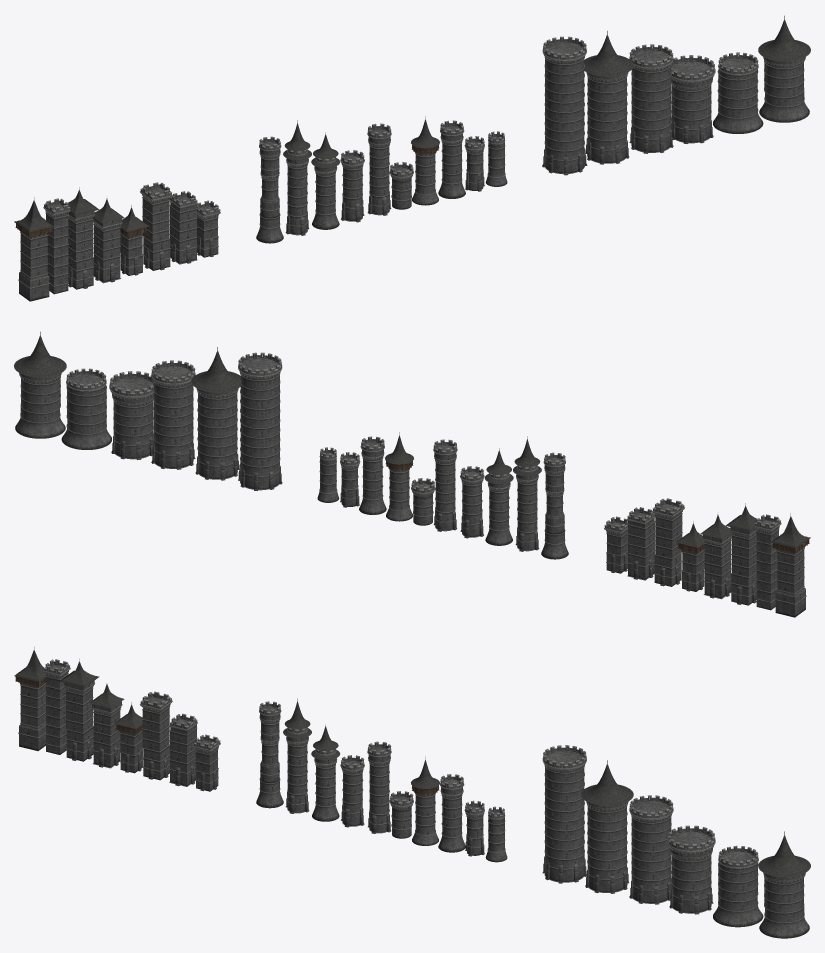
The model's file is RenderCrate-Castle_Towers.fbx.
3 views of the same model, one above another, from view 1: azimuth 30°, elevation 25°; view 2: azimuth 150°, elevation 25°; view 3: azimuth 330°, elevation 25° (orthographic).
Parts seen in each view (by area): view 1: Castle_Tower_Wide_F, Castle_Tower_Wide_E, Castle_Tower_Wide_D, Castle_Tower_Wide_A, Castle_Tower_Wide_C, Castle_Tower_Wide_B, Castle_Tower_Square_H, Castle_Tower_Square_C, Castle_Tower_Square_F, Castle_Tower_Round_I, Castle_Tower_Round_J, Castle_Tower_Square_E (+12 smaller); view 2: Castle_Tower_Wide_F, Castle_Tower_Wide_E, Castle_Tower_Wide_D, Castle_Tower_Wide_A, Castle_Tower_Wide_C, Castle_Tower_Wide_B, Castle_Tower_Square_H, Castle_Tower_Square_C, Castle_Tower_Square_F, Castle_Tower_Round_I, Castle_Tower_Round_J, Castle_Tower_Square_E (+12 smaller); view 3: Castle_Tower_Wide_F, Castle_Tower_Wide_E, Castle_Tower_Wide_D, Castle_Tower_Wide_A, Castle_Tower_Wide_C, Castle_Tower_Wide_B, Castle_Tower_Square_F, Castle_Tower_Square_C, Castle_Tower_Square_H, Castle_Tower_Round_I, Castle_Tower_Round_J, Castle_Tower_Square_E (+12 smaller).
Part boxes in pixels (box(x1,y1,x2,y2)): Castle_Tower_Wide_F: box(542, 36, 587, 175); Castle_Tower_Wide_E: box(584, 30, 633, 164); Castle_Tower_Wide_D: box(629, 44, 673, 153); Castle_Tower_Wide_A: box(758, 15, 810, 122); Castle_Tower_Wide_C: box(671, 55, 715, 143); Castle_Tower_Wide_B: box(713, 52, 763, 133); Castle_Tower_Square_H: box(14, 197, 53, 301); Castle_Tower_Square_C: box(140, 182, 172, 270); Castle_Tower_Square_F: box(67, 187, 99, 289); Castle_Tower_Round_I: box(283, 120, 311, 235); Castle_Tower_Round_J: box(256, 136, 283, 243); Castle_Tower_Square_E: box(93, 198, 124, 283); Castle_Tower_Wide_F: box(238, 352, 282, 490); Castle_Tower_Wide_E: box(191, 347, 240, 480); Castle_Tower_Wide_D: box(151, 360, 195, 469); Castle_Tower_Wide_A: box(14, 331, 66, 438); Castle_Tower_Wide_C: box(109, 371, 153, 459); Castle_Tower_Wide_B: box(61, 368, 111, 449); Castle_Tower_Square_H: box(771, 513, 810, 617); Castle_Tower_Square_C: box(652, 498, 684, 586); Castle_Tower_Square_F: box(725, 503, 757, 605); Castle_Tower_Round_I: box(513, 436, 541, 551); Castle_Tower_Round_J: box(541, 452, 568, 559); Castle_Tower_Square_E: box(700, 514, 731, 599); Castle_Tower_Wide_F: box(542, 745, 586, 883); Castle_Tower_Wide_E: box(581, 760, 633, 893); Castle_Tower_Wide_D: box(629, 795, 673, 904); Castle_Tower_Wide_A: box(758, 831, 810, 938); Castle_Tower_Wide_C: box(667, 825, 715, 914); Castle_Tower_Wide_B: box(713, 845, 763, 927); Castle_Tower_Square_F: box(59, 659, 99, 761); Castle_Tower_Square_C: box(140, 691, 172, 780); Castle_Tower_Square_H: box(14, 646, 45, 750); Castle_Tower_Round_I: box(283, 698, 311, 813); Castle_Tower_Round_J: box(256, 701, 283, 808); Castle_Tower_Square_E: box(89, 683, 124, 768).
Size of the model in its own units: 10882 by 633 by 1664.
1 material, 1 textured.
